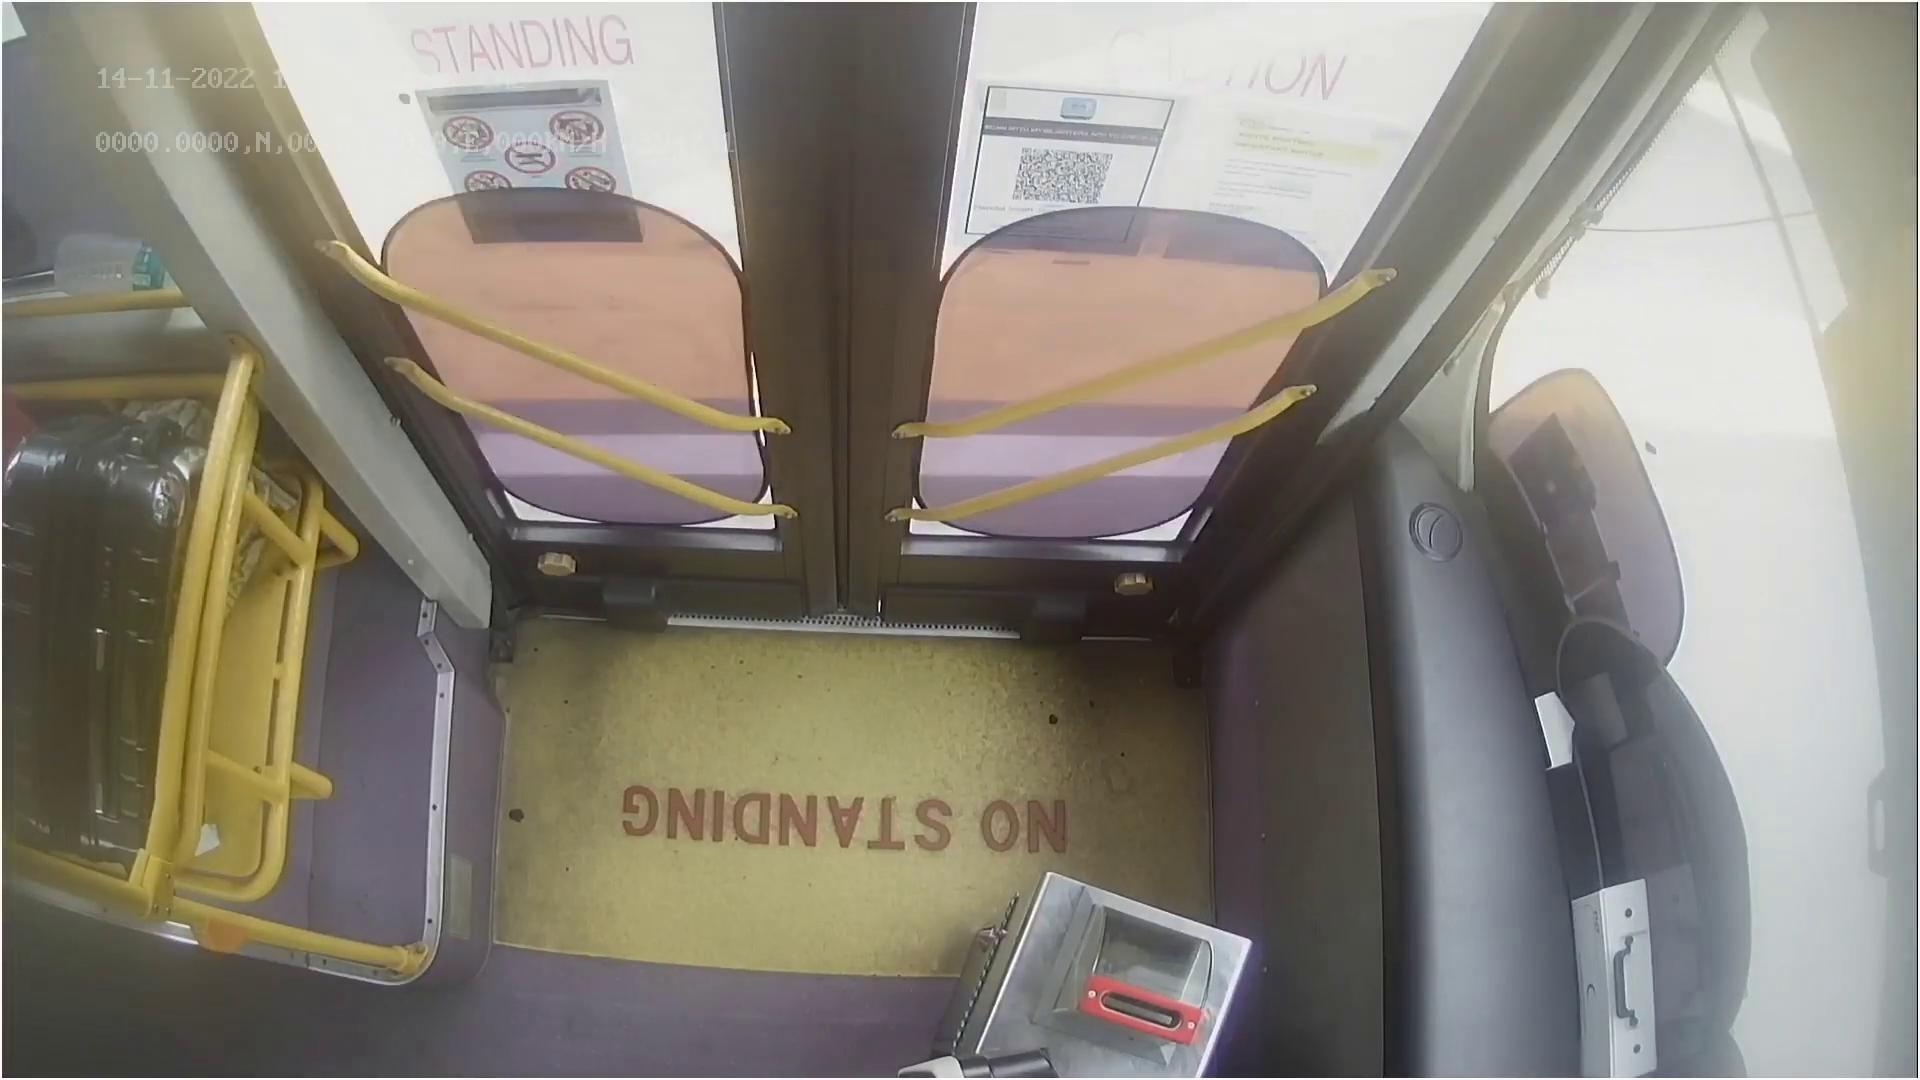close: (282, 0, 1441, 164)
